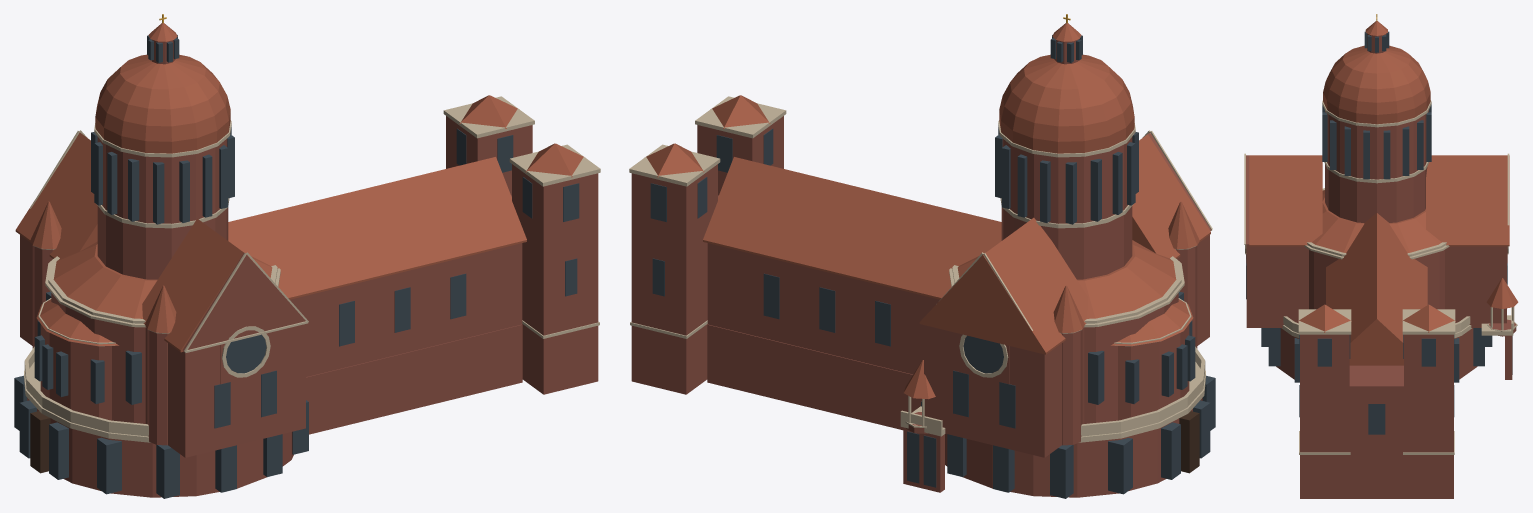
File: ferdinand_monastery.glb
The picture shows the model from 3 angles, left to right: view 1: azimuth 30°, elevation 25°; view 2: azimuth 150°, elevation 25°; view 3: azimuth 270°, elevation 25°; orthographic projection. The views are drawn at different scales.
Visible parts, largest first — view 1: nave_roof, nave, tower_n, nave_plinth, transept_n, dome, drum, arcade, transept_n_roof, transept_s_roof, transept_n_gable, skirt_roof (+39 smaller); view 2: nave_roof, nave, tower_s, transept_s_roof, nave_plinth, transept_s, dome, drum, arcade, transept_n_roof, skirt_roof, apse (+41 smaller); view 3: nave_roof, tower_s, tower_n, drum, transept_s_roof, narthex, dome, transept_n_roof, transept_n, transept_s, skirt_roof, ambulatory (+23 smaller).
Part boxes in pixels (bbox=[...]): nave_roof: bbox=[228, 157, 526, 299]; nave: bbox=[290, 243, 522, 376]; tower_n: bbox=[512, 164, 598, 394]; nave_plinth: bbox=[306, 324, 522, 434]; transept_n: bbox=[145, 324, 305, 457]; dome: bbox=[95, 54, 230, 153]; drum: bbox=[97, 137, 228, 279]; arcade: bbox=[27, 398, 293, 497]; transept_n_roof: bbox=[142, 218, 243, 352]; transept_s_roof: bbox=[15, 132, 97, 258]; transept_n_gable: bbox=[183, 253, 305, 350]; skirt_roof: bbox=[53, 241, 272, 318]; nave_roof: bbox=[703, 157, 1001, 299]; nave: bbox=[707, 243, 939, 374]; tower_s: bbox=[631, 164, 717, 394]; transept_s_roof: bbox=[919, 217, 1088, 354]; nave_plinth: bbox=[707, 324, 921, 430]; transept_s: bbox=[924, 325, 1084, 457]; dome: bbox=[999, 54, 1134, 153]; drum: bbox=[1001, 137, 1132, 279]; arcade: bbox=[945, 398, 1202, 497]; transept_n_roof: bbox=[1132, 134, 1210, 258]; skirt_roof: bbox=[957, 240, 1176, 318]; apse: bbox=[1118, 324, 1189, 420]; nave_roof: bbox=[1326, 213, 1427, 365]; tower_s: bbox=[1404, 334, 1453, 498]; tower_n: bbox=[1300, 334, 1349, 498]; drum: bbox=[1325, 110, 1428, 222]; transept_s_roof: bbox=[1426, 155, 1509, 246]; narthex: bbox=[1348, 365, 1405, 498]; dome: bbox=[1323, 45, 1430, 124]; transept_n_roof: bbox=[1249, 155, 1322, 246]; transept_n: bbox=[1246, 244, 1308, 327]; transept_s: bbox=[1445, 246, 1506, 327]; skirt_roof: bbox=[1312, 190, 1441, 252]; ambulatory: bbox=[1309, 250, 1444, 309].
Size of the model in its own units: 55.67 by 43.82 by 32.41.
